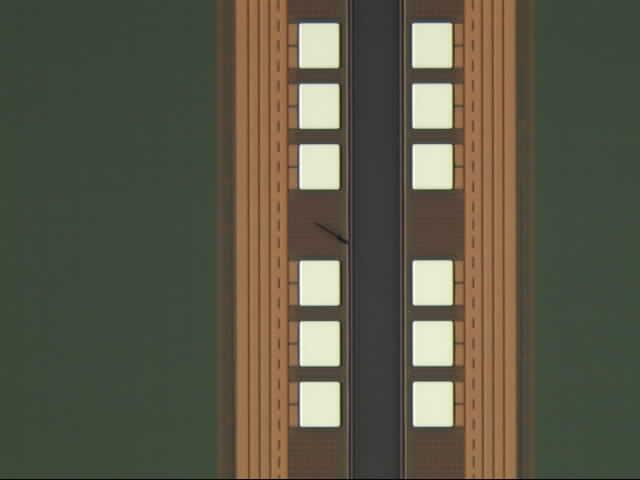PIQ PARTICLE: (312, 219, 352, 247)
